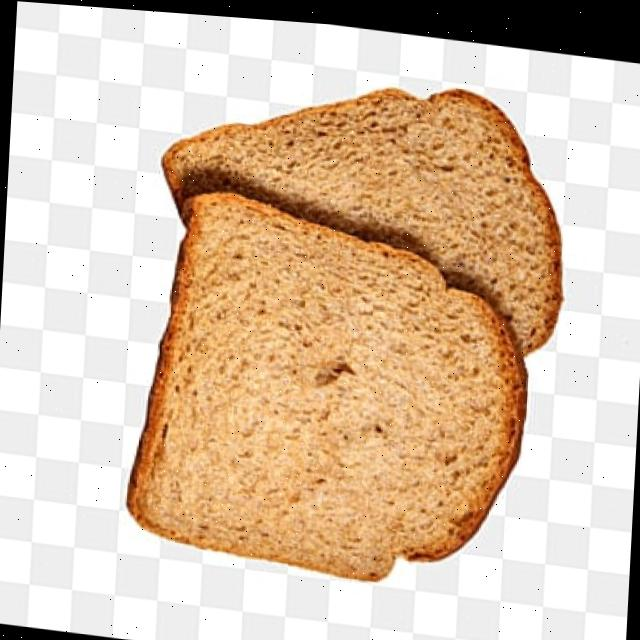Bread: (128, 190, 526, 575), (162, 82, 561, 346)
